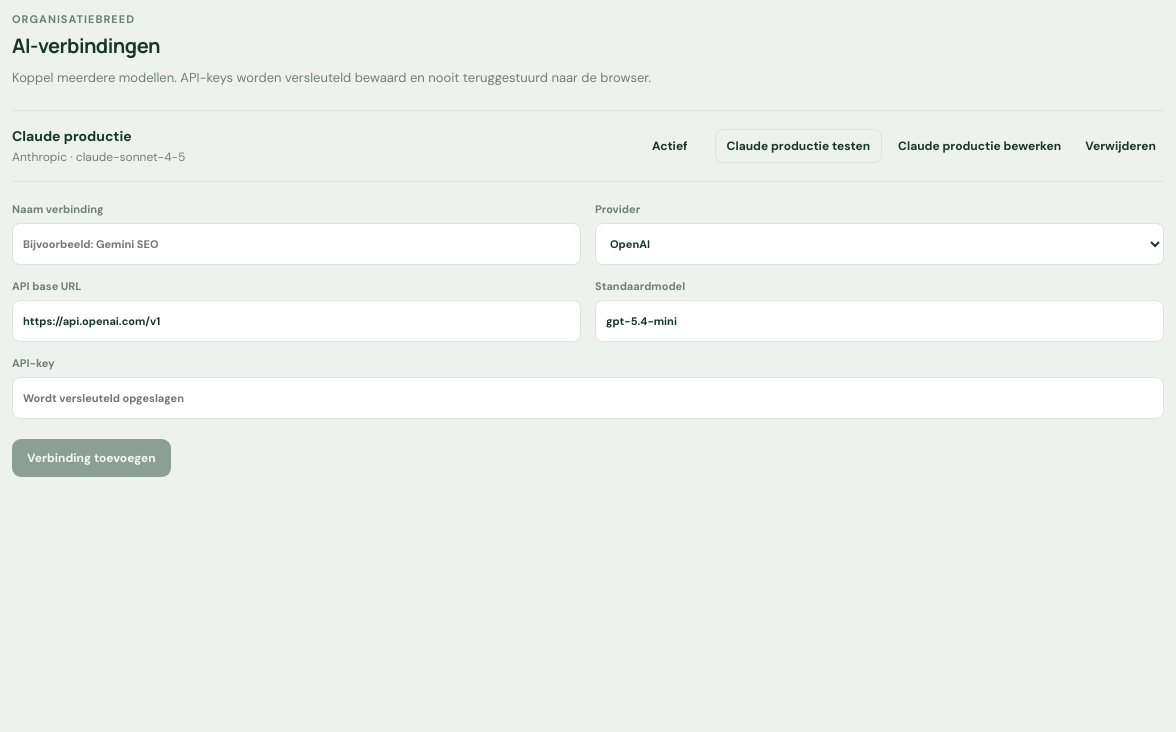
AiConnectionsPanel › reloads and shows the stored provider message after a failed test
The width and height of the screenshot is (1176, 732).
Expected: the text "Claude productie" is shown, [12,127,132,145]
Click the button "Claude productie testen" at (798,146), box [715,129,882,163]
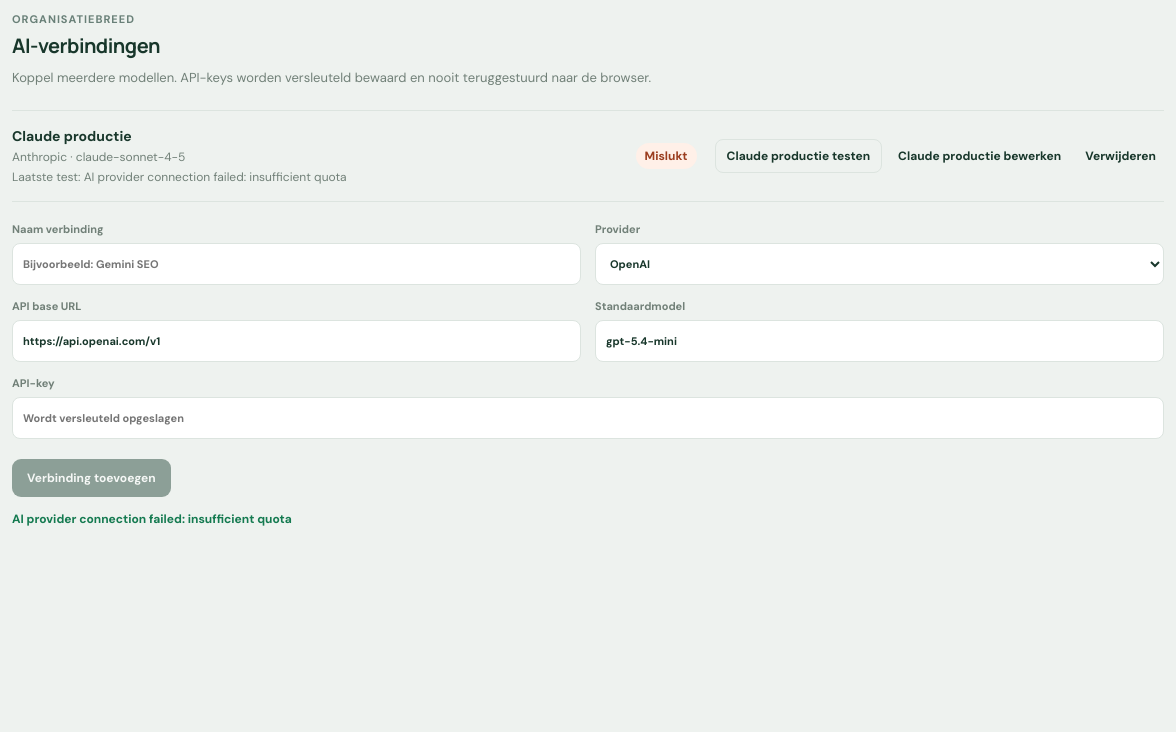
Result: the text "AI provider connection failed: insufficient quota" is shown at [12,511,292,527]
Result: the text "Laatste test: AI provider connection failed: insufficient quota" is shown at [12,169,347,185]
Result: the text "Mislukt" is shown at [636,143,696,169]
